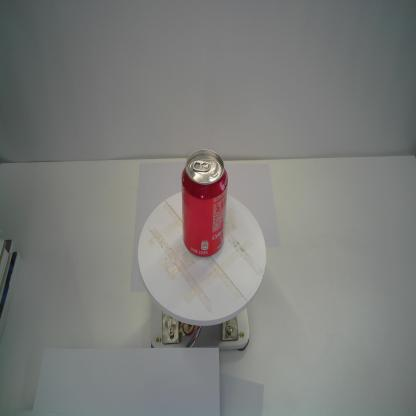Drink: (180, 147, 229, 259)
